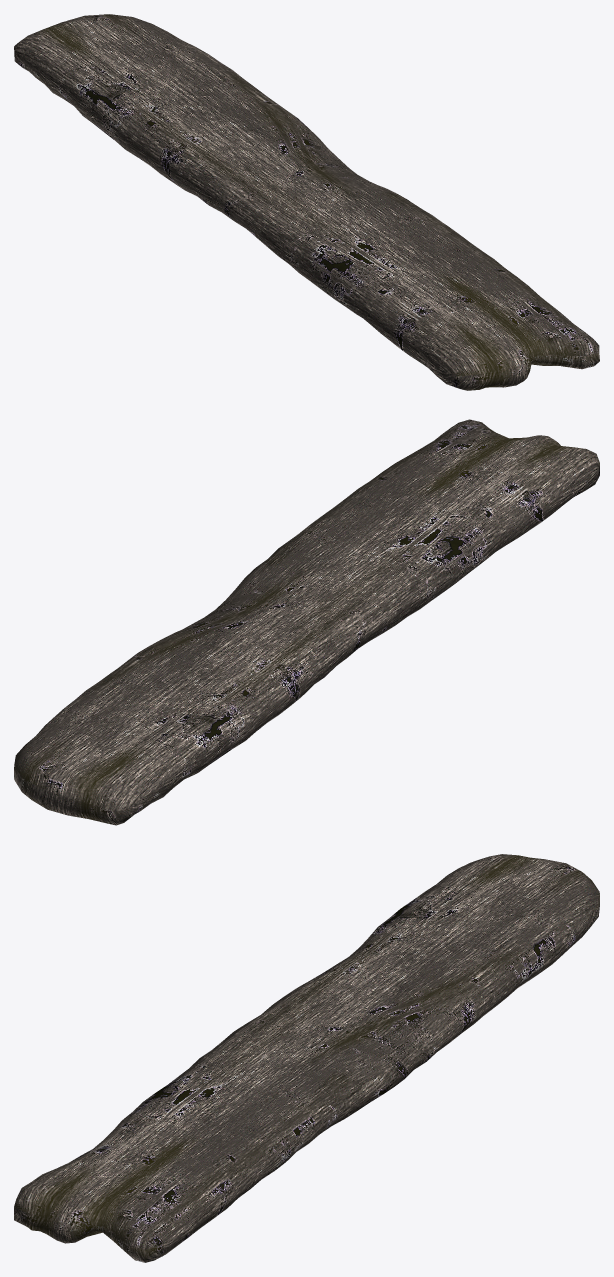
File: wood2.fbx
3 renders of one model, top to bottom at view 1: azimuth 30°, elevation 25°; view 2: azimuth 150°, elevation 25°; view 3: azimuth 330°, elevation 25°, orthographic. The views are drawn at different scales.
Parts seen in each view (by area): view 1: 나무판자2_low; view 2: 나무판자2_low; view 3: 나무판자2_low.
Part boxes in pixels (x1=…): 나무판자2_low: x1=14, y1=14, x2=599, y2=390; 나무판자2_low: x1=14, y1=419, x2=599, y2=825; 나무판자2_low: x1=14, y1=854, x2=599, y2=1262.
Bounding box in the file's own units: 108 × 26.93 × 590.
